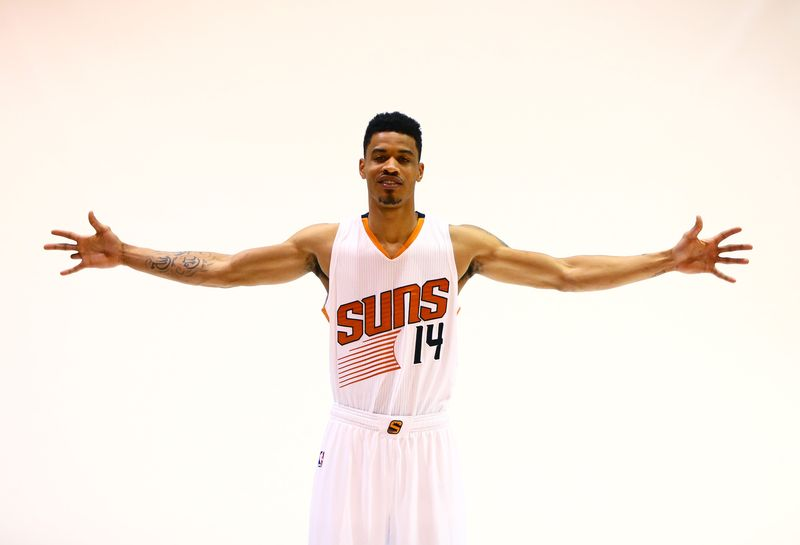finger: (711, 237, 759, 257), (709, 222, 746, 246), (49, 224, 84, 241), (710, 269, 743, 287), (55, 263, 88, 279), (43, 240, 78, 254), (711, 254, 751, 266), (65, 251, 85, 263)
